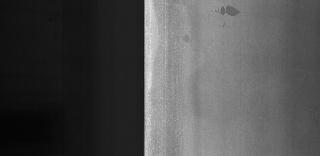oil spot: (210, 4, 242, 26), (178, 32, 195, 44)
